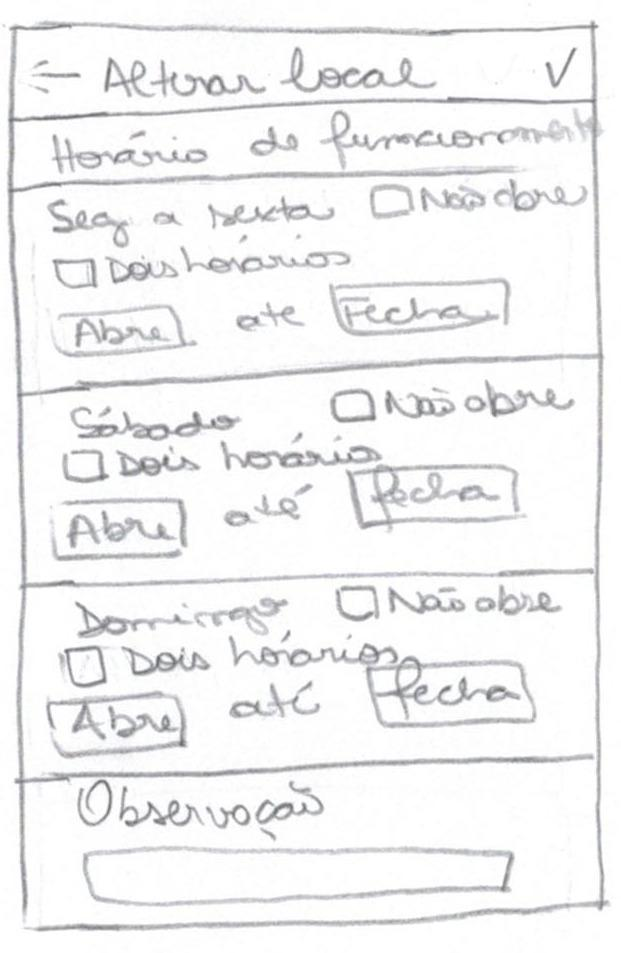Button: (368, 656, 536, 728), (348, 465, 520, 529), (330, 280, 509, 337), (47, 692, 186, 759), (50, 499, 187, 560), (53, 306, 186, 357), (20, 59, 80, 94), (545, 47, 575, 87)
CheckBox: (64, 634, 398, 687), (53, 233, 356, 289), (63, 433, 382, 482), (331, 380, 575, 424), (370, 180, 589, 220), (336, 585, 561, 621)
Label: (45, 108, 602, 174), (105, 48, 436, 97), (78, 779, 324, 841), (46, 195, 335, 245), (76, 598, 289, 638), (70, 407, 240, 438), (224, 484, 315, 528), (227, 680, 320, 721), (236, 302, 305, 333)
Screen: (9, 22, 602, 930)
TextBox: (83, 848, 514, 907)
